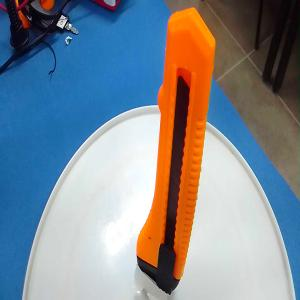estilete: (136, 6, 216, 296)
